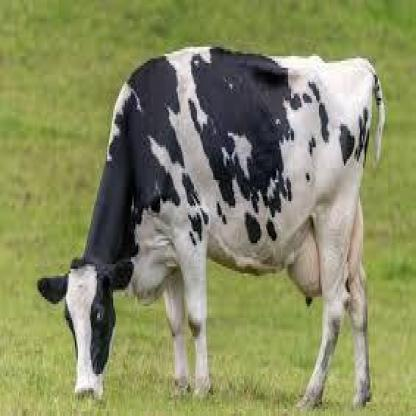cow: (36, 44, 386, 414)
